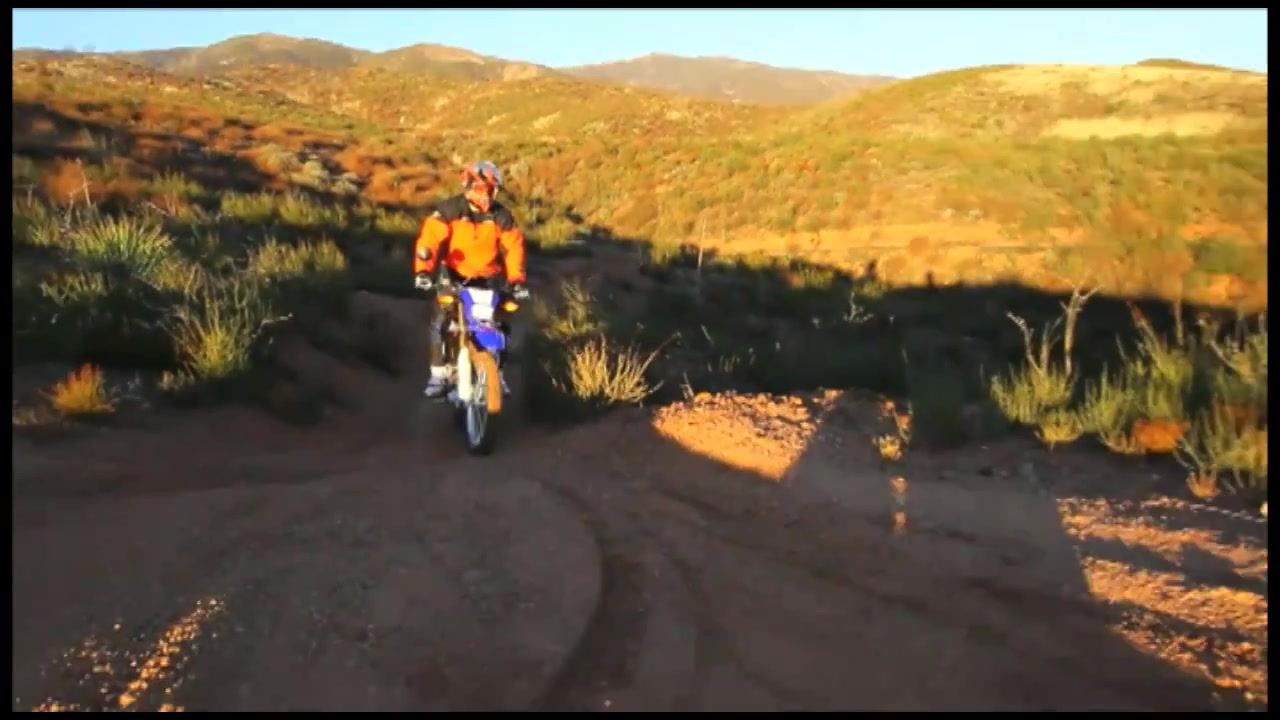motorbike: (415, 265, 535, 453)
